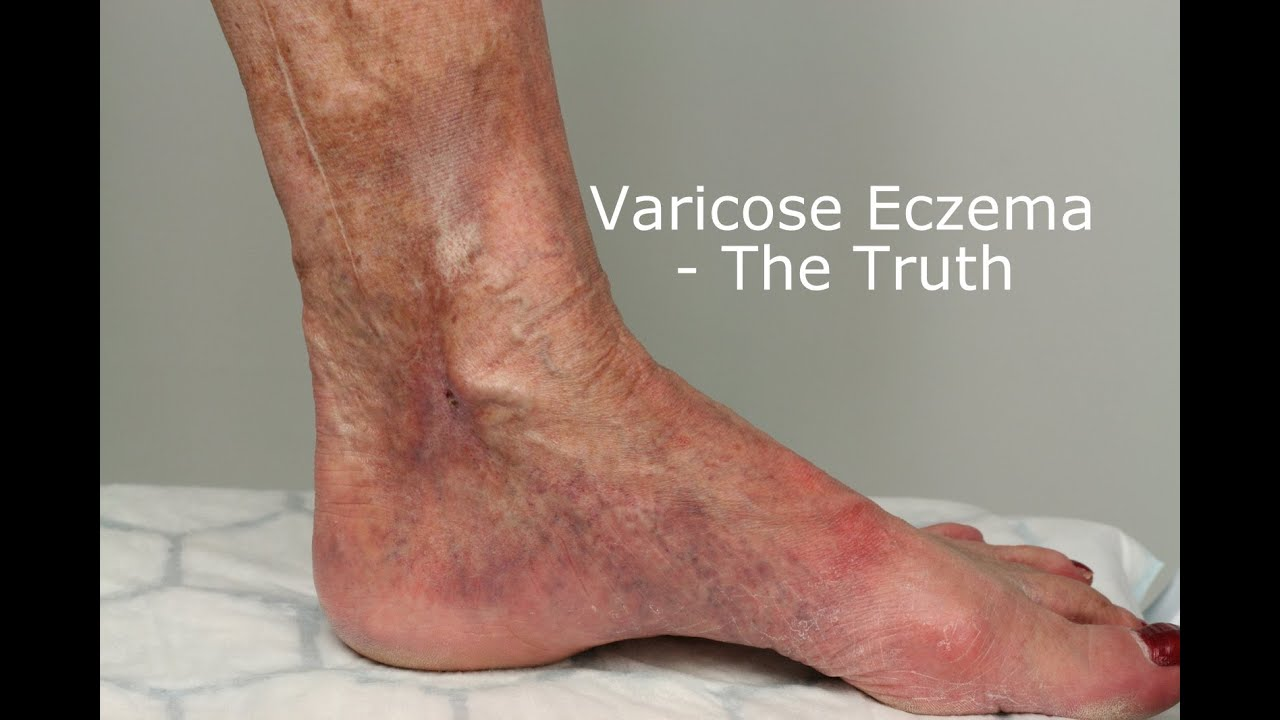Eczema: (317, 77, 634, 634)
